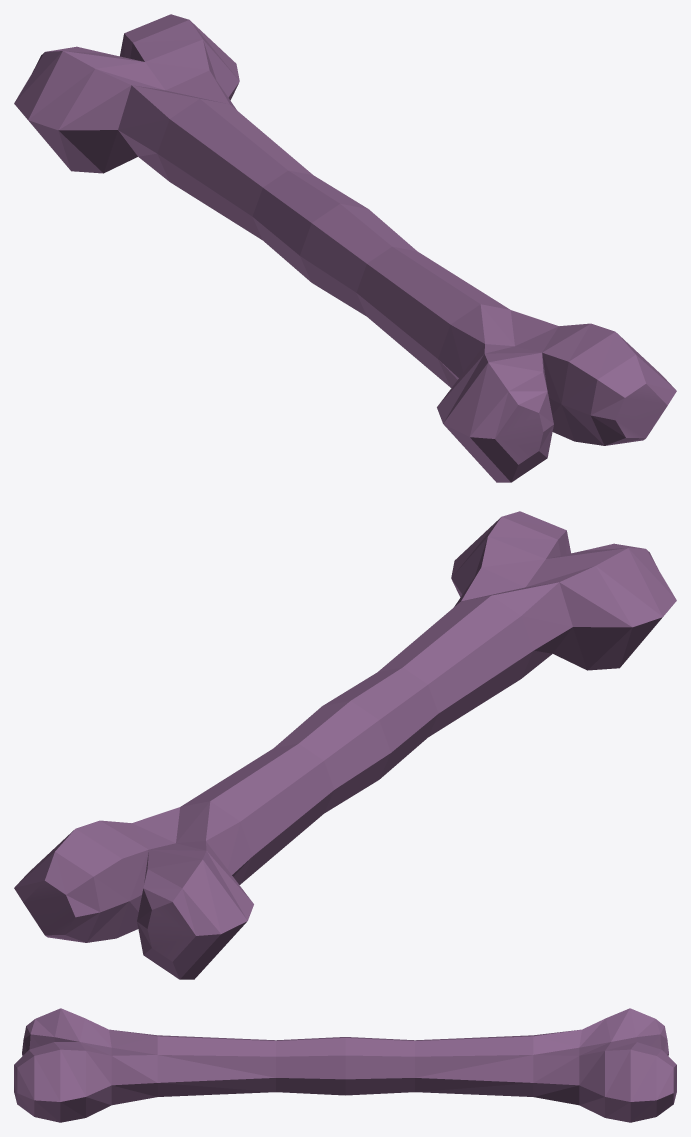
Rendered from Bone.fbx.
3 renders of one model, top to bottom at view 1: azimuth 30°, elevation 25°; view 2: azimuth 150°, elevation 25°; view 3: azimuth 270°, elevation 25°, orthographic. The views are drawn at different scales.
Parts seen in each view (by area): view 1: Cylinder025; view 2: Cylinder025; view 3: Cylinder025.
Part boxes in pixels (box(x1,y1,x2,y2)): Cylinder025: box(14, 14, 676, 482); Cylinder025: box(14, 511, 676, 979); Cylinder025: box(14, 1008, 676, 1122).
Bounding box in the file's own units: 7.45 × 29.9 × 4.07.
